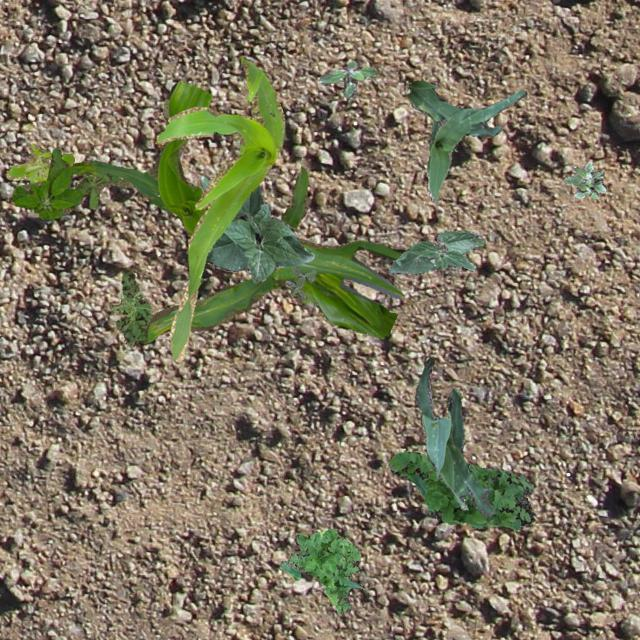crop: (70, 80, 404, 342), (156, 56, 284, 360), (406, 78, 526, 200), (413, 356, 492, 516), (204, 184, 314, 282), (386, 230, 484, 274)
weed: (388, 450, 534, 530), (279, 528, 362, 614), (10, 148, 110, 218), (114, 268, 150, 346), (4, 142, 74, 182), (318, 59, 376, 96), (562, 160, 606, 198), (284, 264, 314, 298), (110, 290, 140, 318), (198, 174, 210, 190)
